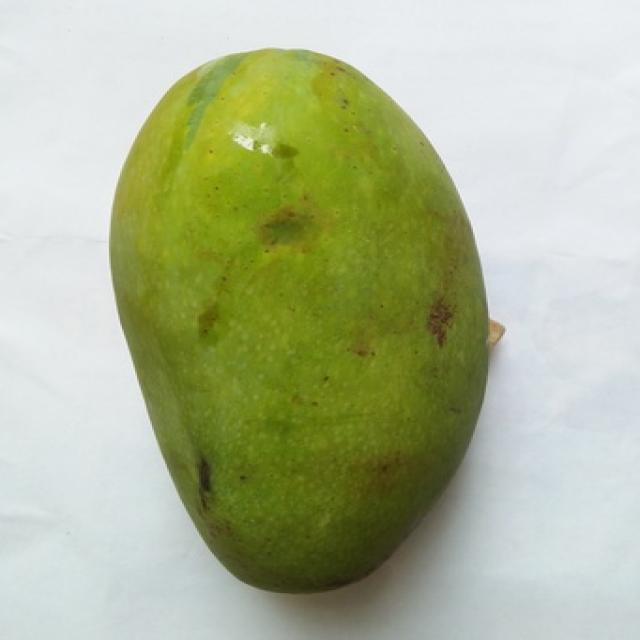Mango: (111, 49, 488, 591)
